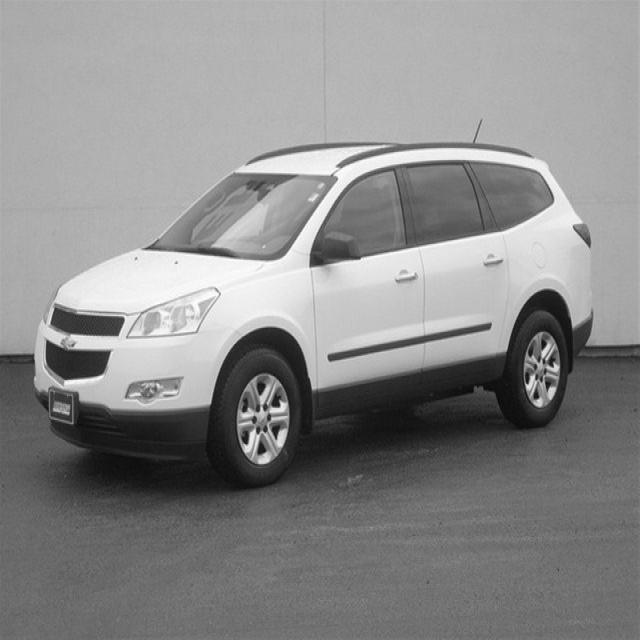car: (32, 131, 594, 488)
